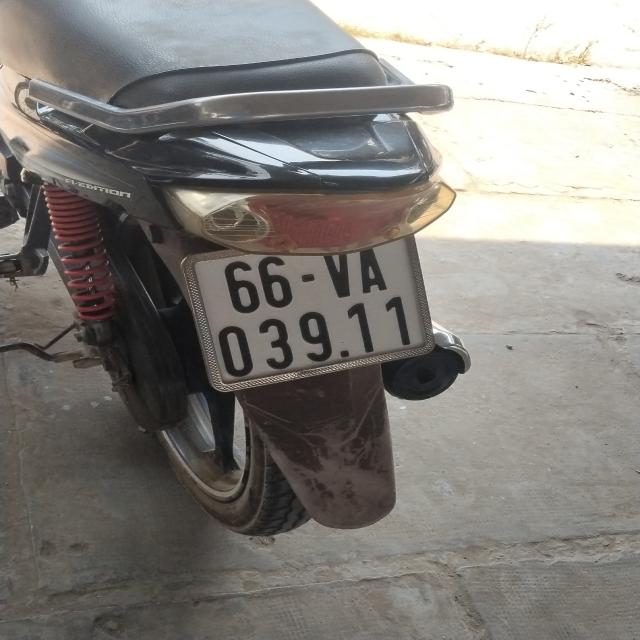0: (213, 324, 253, 380)
1: (384, 294, 420, 351), (350, 301, 377, 355)
3: (257, 318, 294, 370)
6: (227, 259, 262, 317), (262, 254, 294, 311)
9: (300, 309, 333, 362)
A: (355, 242, 387, 295)
V: (321, 246, 354, 298)
